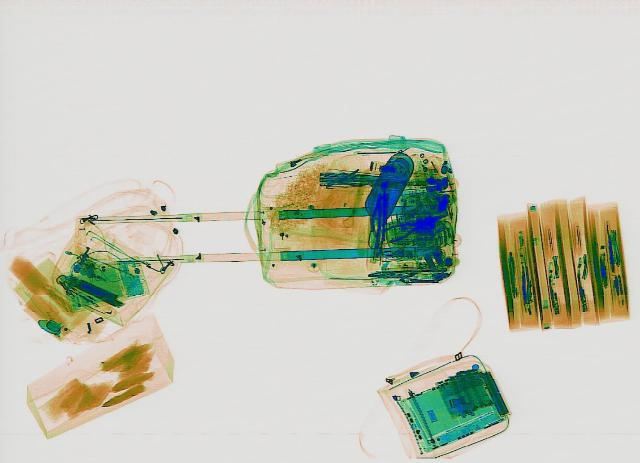Pliers: (374, 207, 452, 244)
